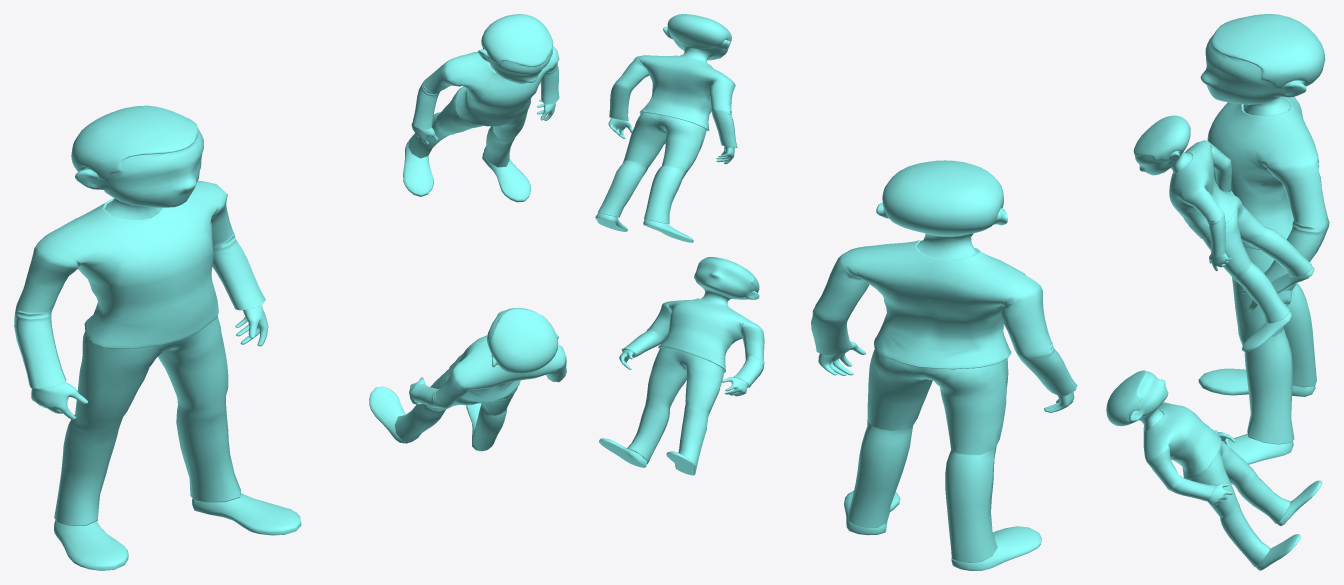
Rendered from prota.glb.
The picture shows the model from 3 angles, left to right: view 1: azimuth 30°, elevation 25°; view 2: azimuth 150°, elevation 25°; view 3: azimuth 270°, elevation 25°; orthographic projection. The views are drawn at different scales.
Visible parts, largest first — view 1: mesh_id88, mesh_id94, mesh_id100; view 2: mesh_id88, mesh_id94, mesh_id100; view 3: mesh_id88, mesh_id100, mesh_id94.
Part boxes in pixels (box(x1,y1,x2,y2)): mesh_id88: box(14, 105, 301, 570); mesh_id94: box(403, 14, 559, 202); mesh_id100: box(369, 308, 566, 451); mesh_id88: box(811, 160, 1077, 570); mesh_id94: box(595, 14, 737, 242); mesh_id100: box(599, 257, 764, 475); mesh_id88: box(1198, 14, 1329, 464); mesh_id100: box(1106, 370, 1321, 570); mesh_id94: box(1133, 115, 1314, 352).
Size of the model in its own units: 0.196 by 0.1685 by 0.0775.
2 materials, 2 textured.
